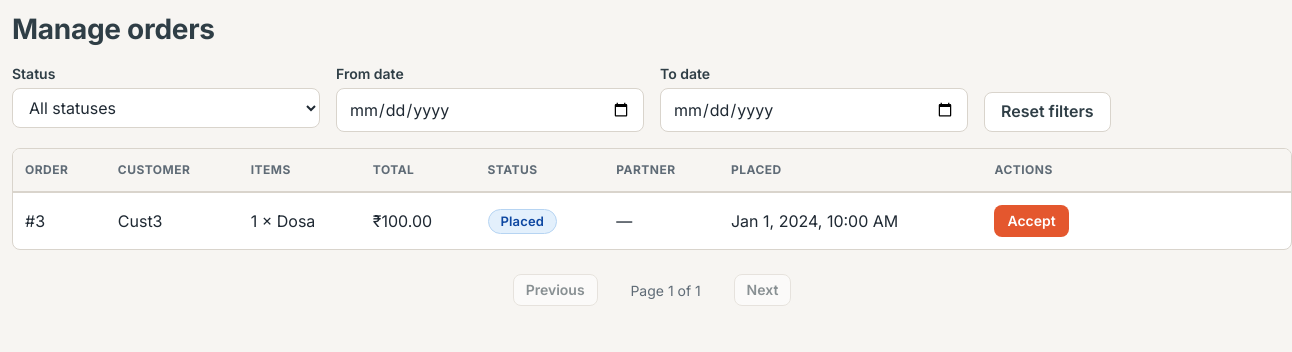
Test: OrderManagement › shows a 409 error inline
Click the button "Accept": (1032, 221) [994, 205, 1069, 237]
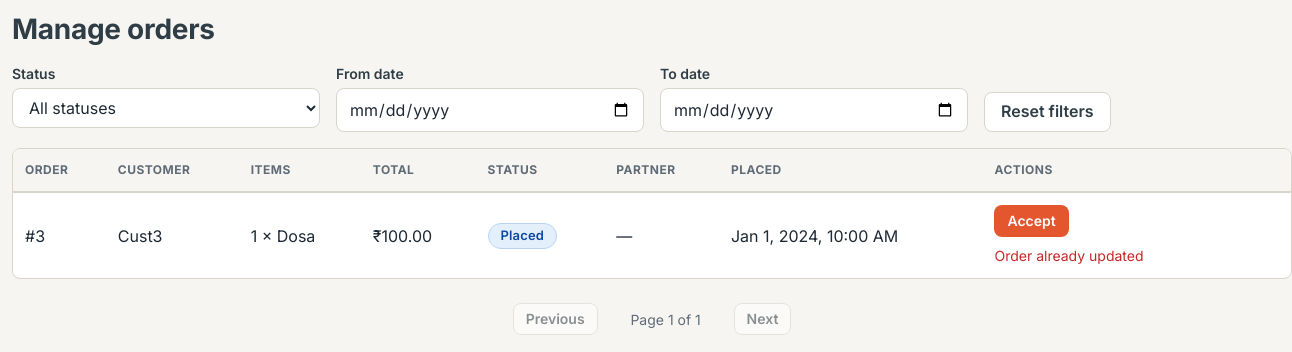
Now the message reads "Order already updated", box [994, 247, 1144, 264]
